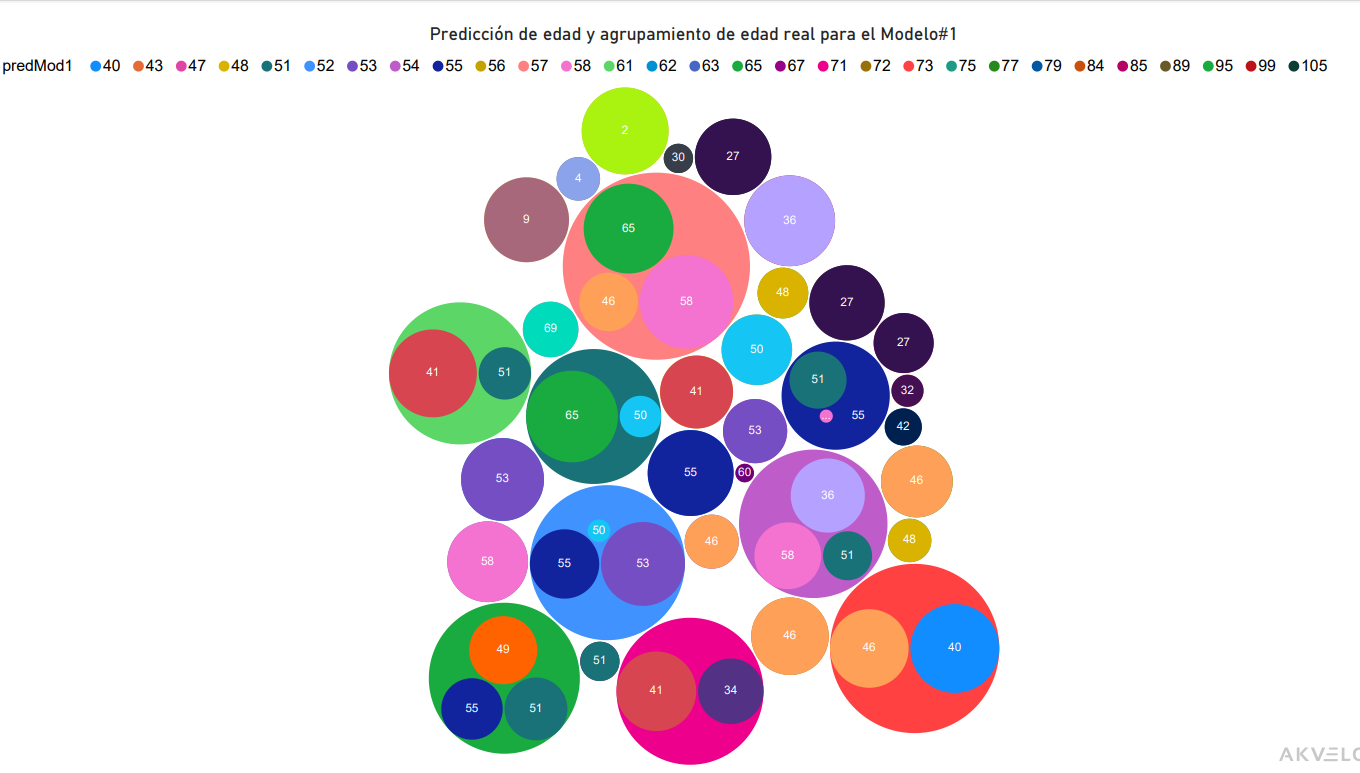

The page's visual inventory and layout, read from the dashboard file:
{"tool":"powerbi","page":{"name":"BubbleModel1","canvas":[1280,720],"ordinal":4},"visuals":[{"type":"bubbleChartEEDCDFA388784AEEAB47972BC1626196","title":"Predicción de edad y agrupamiento de edad real para el Modelo#1","fields":{"grouping":["dataModelos (2).predMod1"],"category":["dataModelos (2).edadMod1"],"measure":["Sum(dataModelos (2).Iteracion)"]},"box":[0,0,1296.9,700.4],"z":1}]}

Visuals, with their boxes in screenshot pixels (x1, y1, x2, y2), scaled from the page's 1280x720 canvas onto the 1360x773 screenshot:
"Predicción de edad y agrupamiento de edad real para el Modelo#1" bubbleChartEEDCDFA388784AEEAB47972BC1626196: locate(0, 0, 1359, 752)
